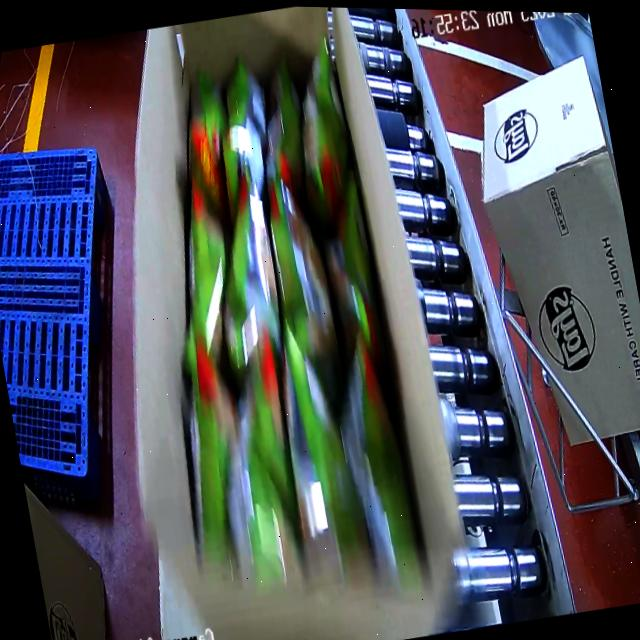YOGURT_HERB: (125, 40, 420, 574)
